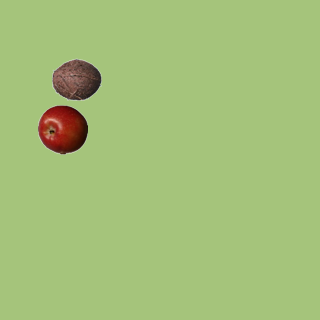Apple Braeburn: (37, 104, 87, 154)
Cocos: (51, 54, 101, 104)
